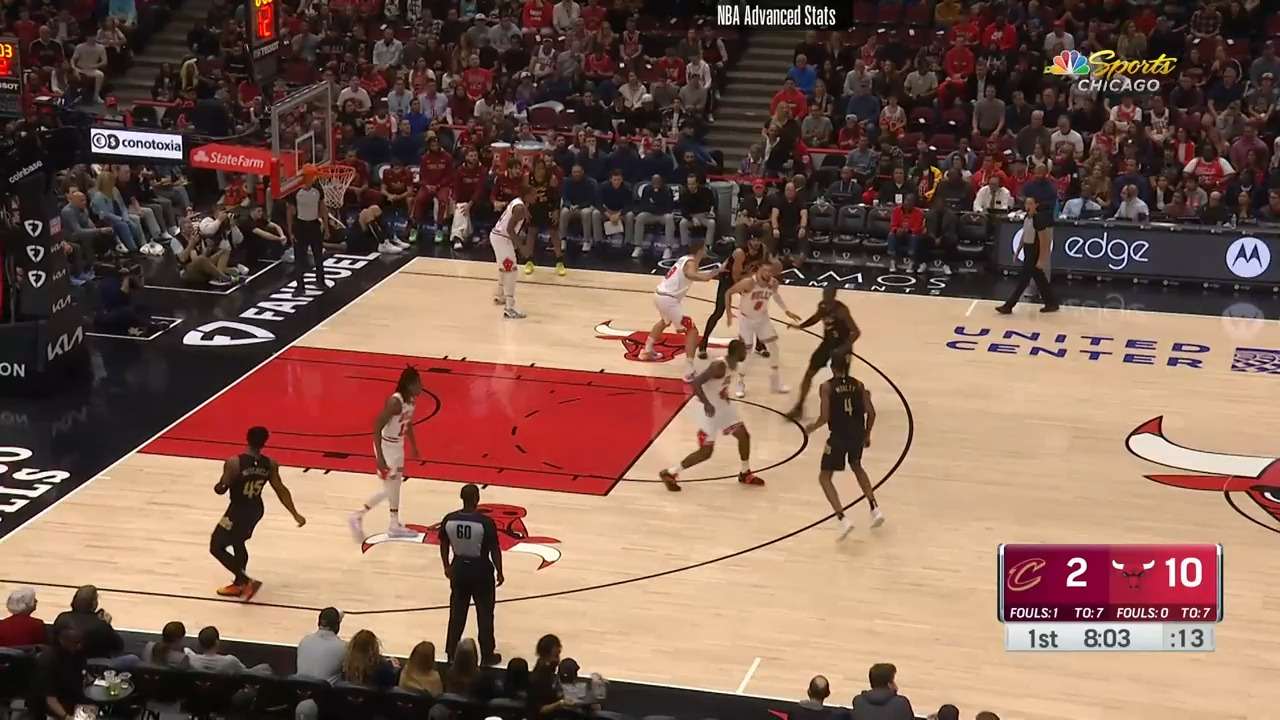net: (297, 156, 362, 212)
player: (208, 422, 312, 605), (802, 344, 892, 545), (657, 336, 767, 495), (352, 367, 441, 550), (781, 279, 861, 431), (722, 263, 802, 397), (637, 240, 722, 366), (697, 232, 776, 359), (493, 184, 543, 320), (519, 156, 575, 276)
referee: (426, 480, 526, 665), (996, 193, 1063, 315), (292, 178, 332, 300)
